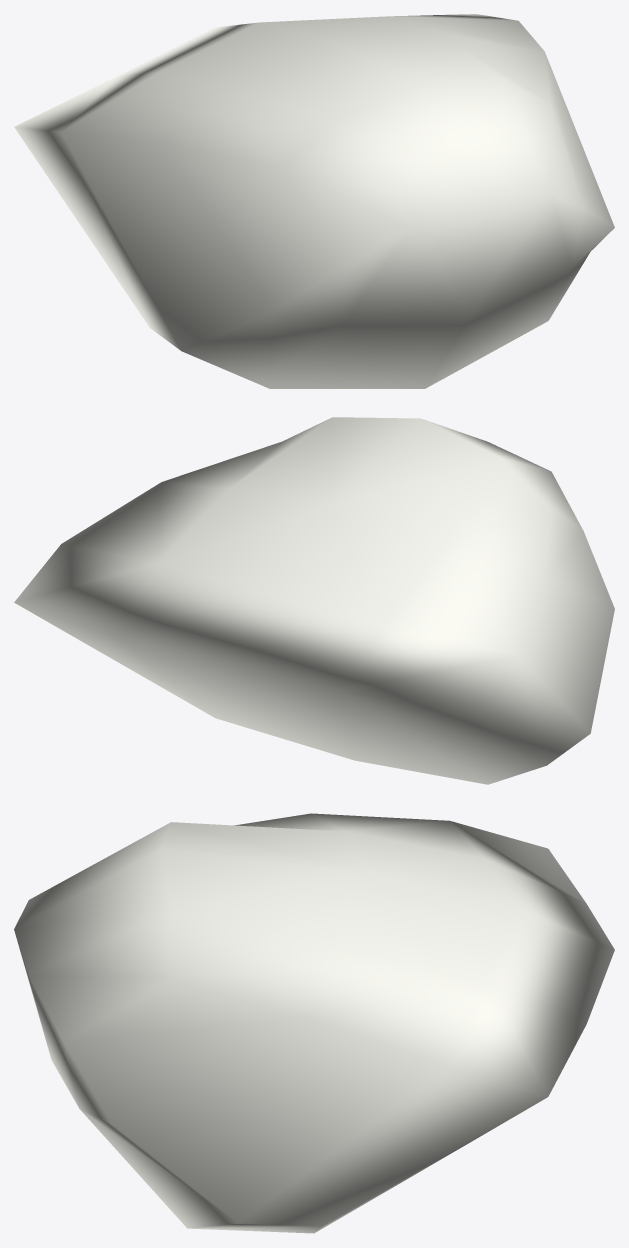
Rendered from Beard_White_1.fbx.
The picture shows the model from 3 angles, top to bottom: view 1: azimuth 30°, elevation 25°; view 2: azimuth 150°, elevation 25°; view 3: azimuth 270°, elevation 25°; orthographic projection. The views are drawn at different scales.
Visible parts, largest first — view 1: Beard_White_1; view 2: Beard_White_1; view 3: Beard_White_1.
Boxes of the visible parts, x1=… form: Beard_White_1: x1=14, y1=14, x2=614, y2=388; Beard_White_1: x1=14, y1=417, x2=614, y2=784; Beard_White_1: x1=14, y1=813, x2=614, y2=1233.
Size of the model in its own units: 14.67 by 9.05 by 15.
